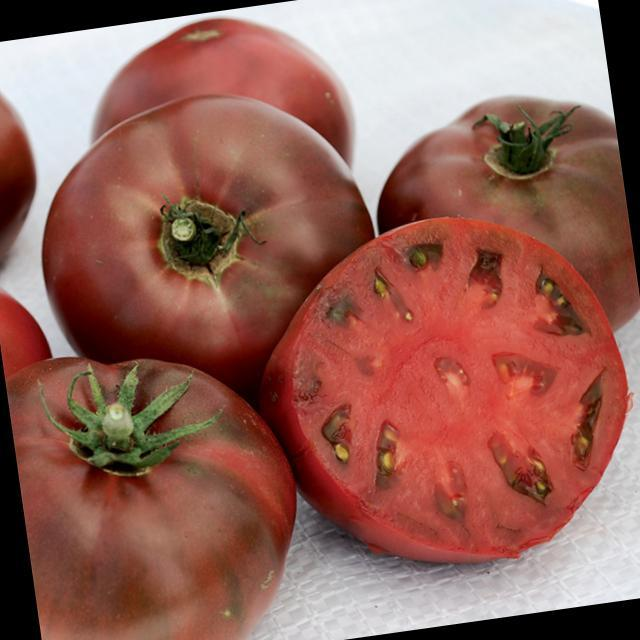TOMATO: (293, 206, 640, 570), (2, 323, 314, 640), (24, 93, 357, 384), (86, 1, 363, 168), (0, 43, 50, 297)
